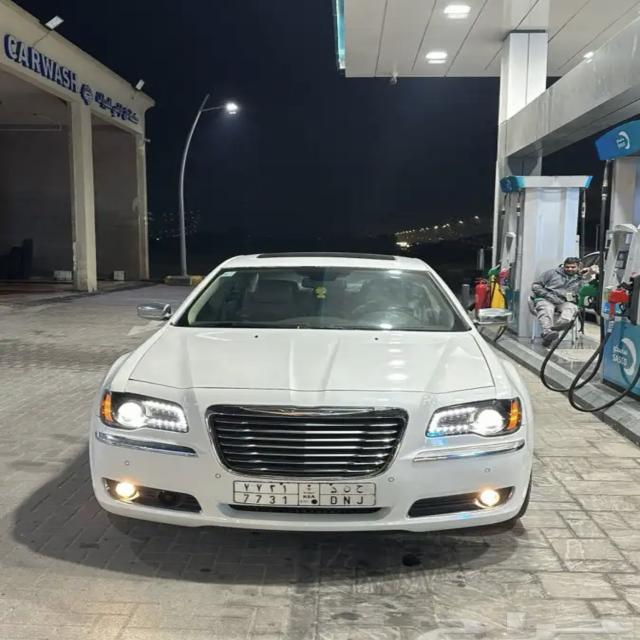license_plate: (232, 478, 378, 507)
